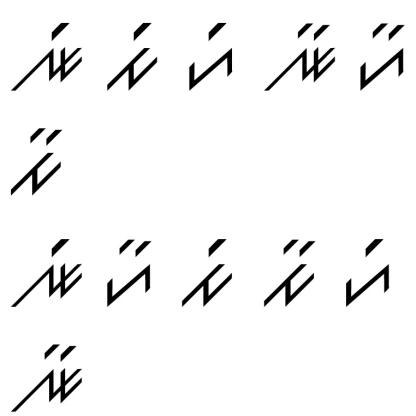han: (350, 19, 408, 97), (100, 236, 153, 313)
hang: (179, 18, 239, 98), (339, 233, 393, 310)
mban: (254, 230, 323, 312), (7, 123, 65, 202)
mbang: (94, 20, 161, 97), (178, 233, 240, 312)
ndan: (10, 338, 84, 415), (263, 18, 338, 93)
ndang: (7, 18, 84, 95), (10, 234, 84, 310)
